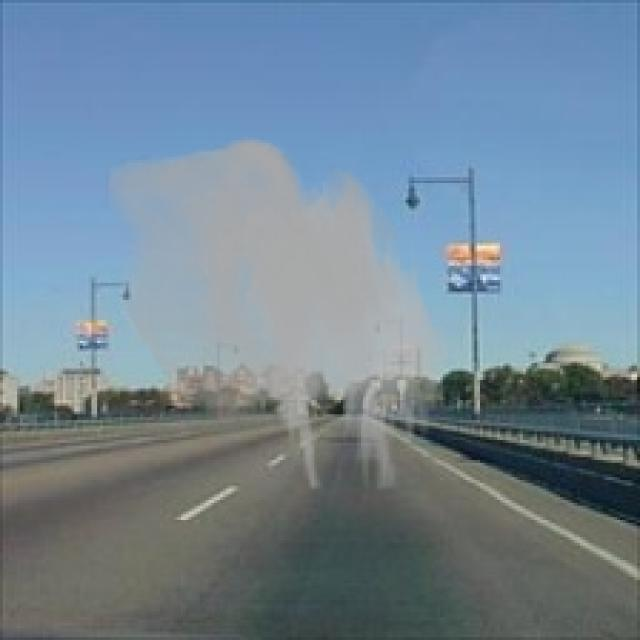Smoke: (106, 137, 454, 492)
